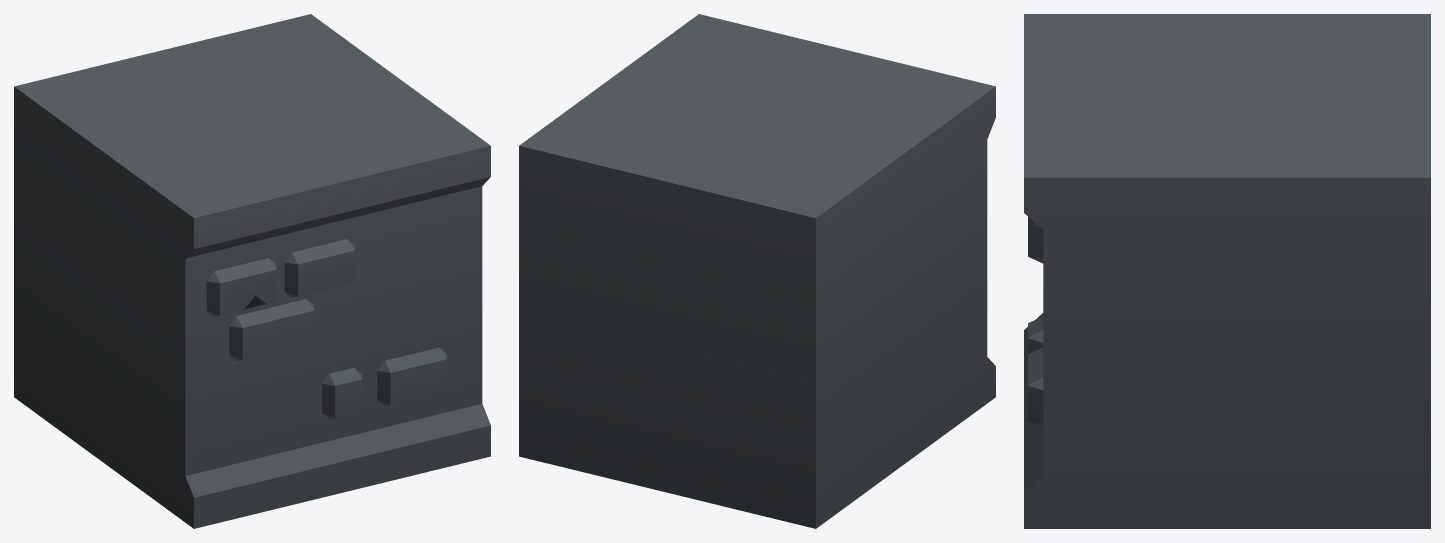
Rendered from floor_foundation_front.gltf.
The picture shows the model from 3 angles, left to right: view 1: azimuth 30°, elevation 25°; view 2: azimuth 150°, elevation 25°; view 3: azimuth 270°, elevation 25°; orthographic projection. The views are drawn at different scales.
Parts seen in each view (by area): view 1: floor_foundation_front; view 2: floor_foundation_front; view 3: floor_foundation_front.
Boxes of the visible parts, <box> form: floor_foundation_front: <box>14,14,490,528</box>; floor_foundation_front: <box>519,14,995,528</box>; floor_foundation_front: <box>1024,14,1430,528</box>.
Size of the model in its own units: 2 by 2 by 2.1.
1 material, 1 textured.
